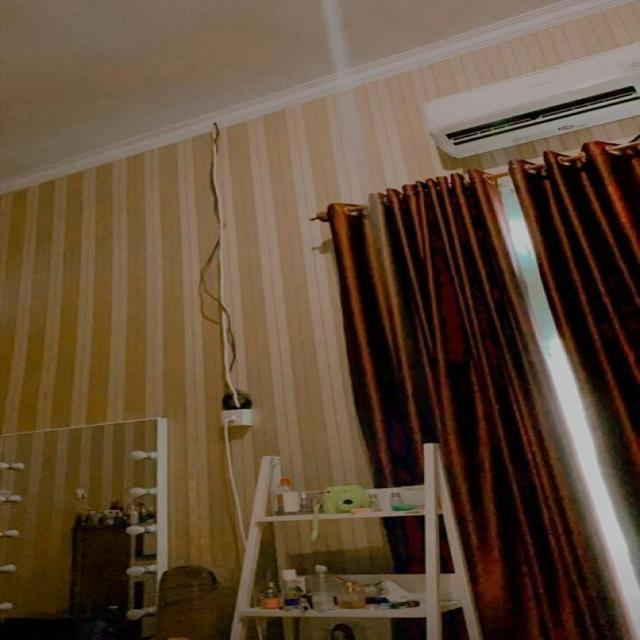AC: (422, 40, 639, 158)
